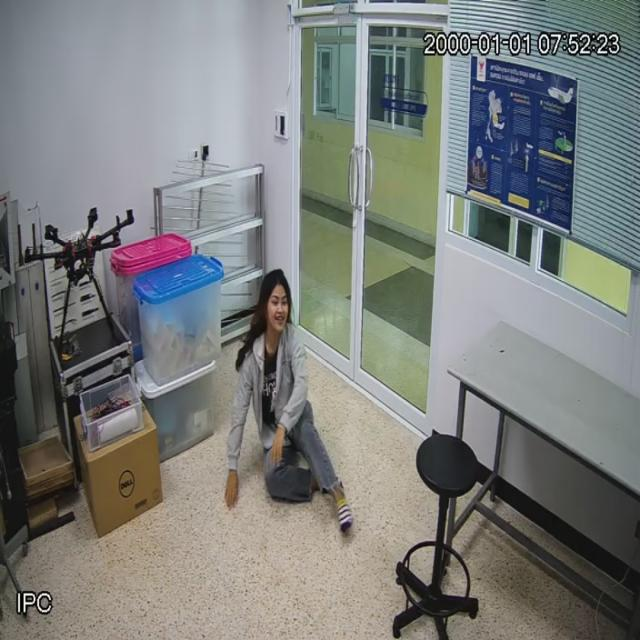fall: (230, 268, 337, 510)
